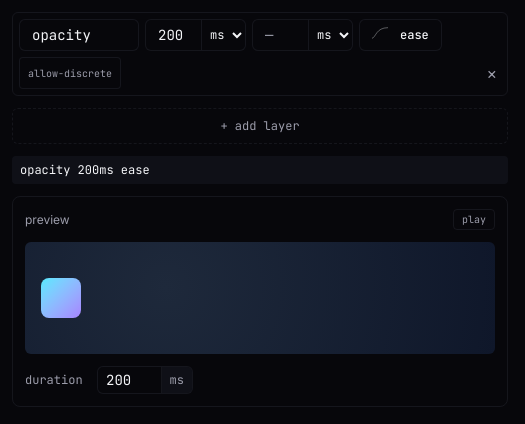
it: panel preview write-back › the panel duration scrubber writes the value back
The width and height of the screenshot is (525, 424).
Replace the text in the field named "Duration (first layer) in ms" with "500". click: (130,380)
box: x1=98 y1=367 x2=161 y2=393
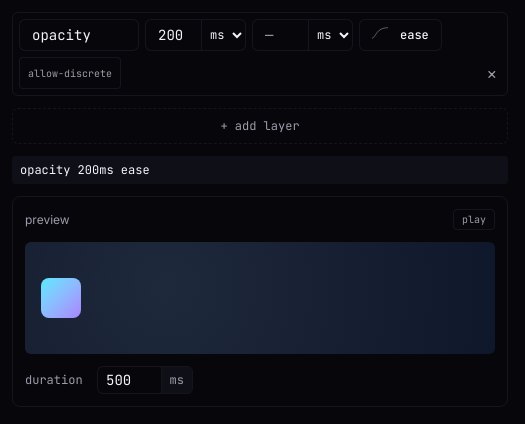
Leave the field named "Duration (first layer) in ms", box x1=98 y1=367 x2=161 y2=393
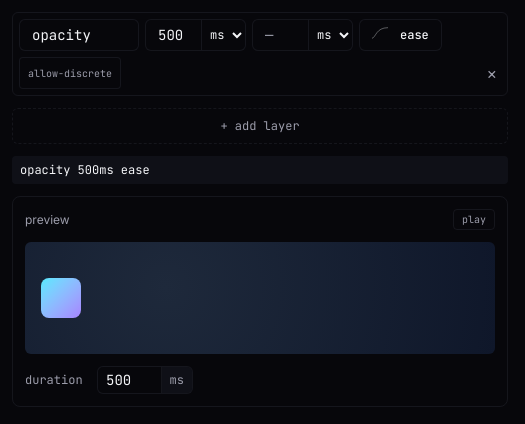
Expected: the text "500ms" is shown, x1=20 y1=162 x2=150 y2=178
